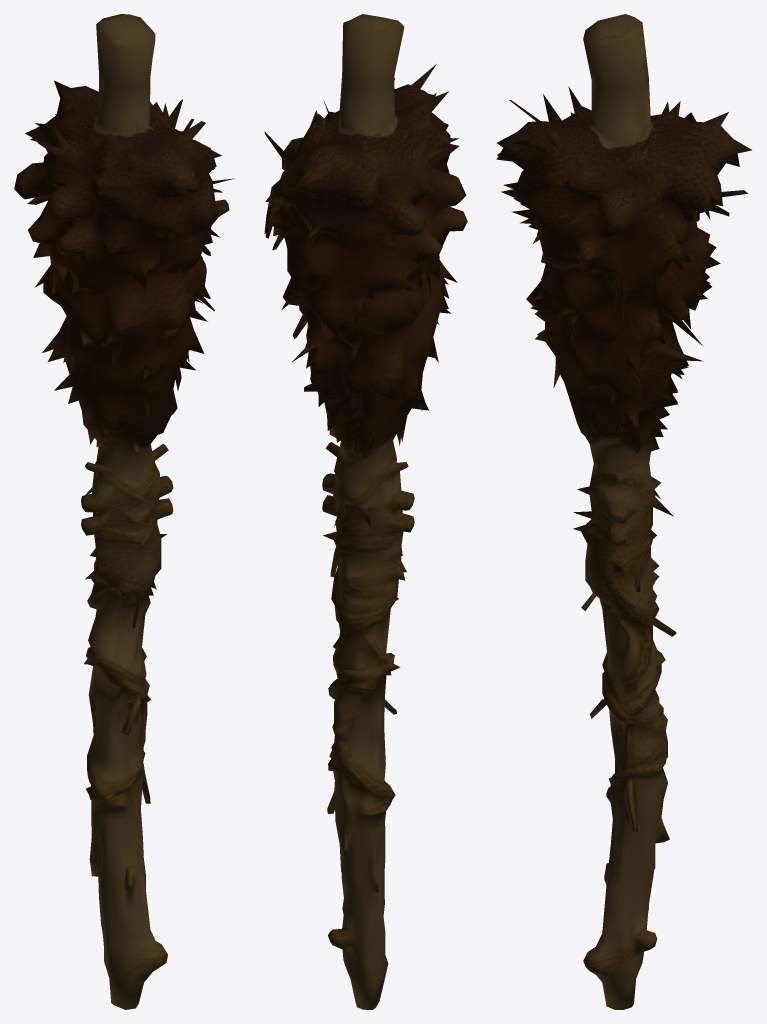
The model's file is boarhide_stave.glb.
3 views of the same model, side by side, from view 1: azimuth 30°, elevation 25°; view 2: azimuth 150°, elevation 25°; view 3: azimuth 270°, elevation 25° (orthographic).
Parts seen in each view (by area): view 1: base_model_path; view 2: base_model_path; view 3: base_model_path.
Boxes of the visible parts, box(x1,y1,x2,y2) form: base_model_path: box(14, 14, 233, 1009); base_model_path: box(264, 14, 467, 1009); base_model_path: box(496, 14, 751, 1009).
Size of the model in its own units: 0.1839 by 0.9996 by 0.2367.
Materials: 1 (1 with a texture image).
